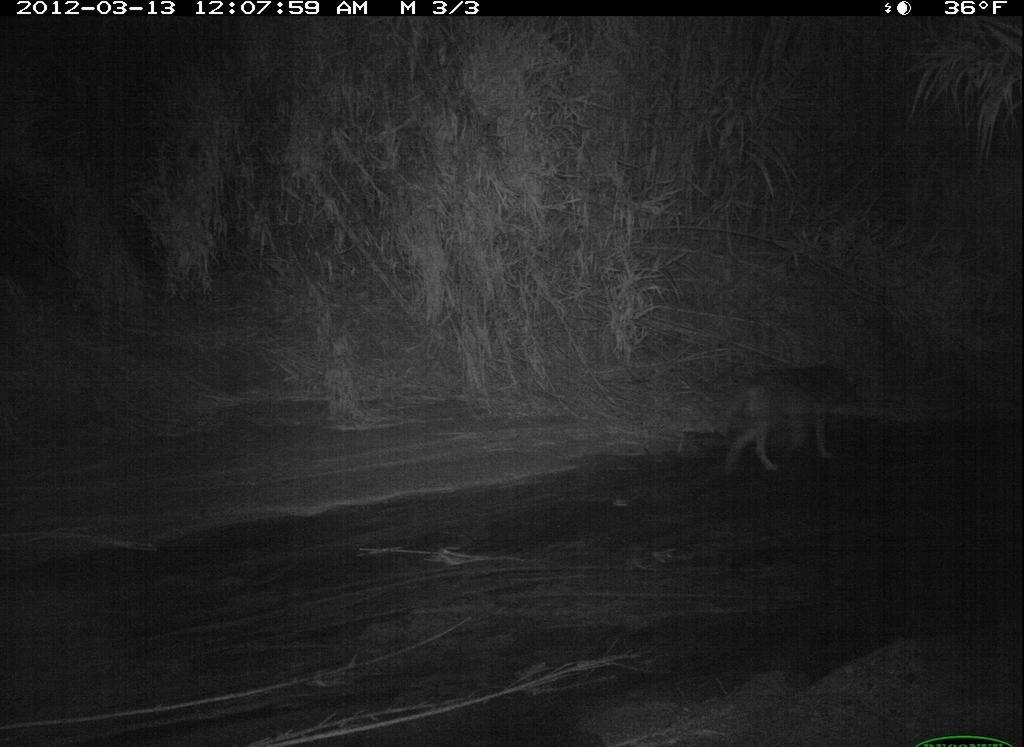coyote: (701, 347, 876, 480)
